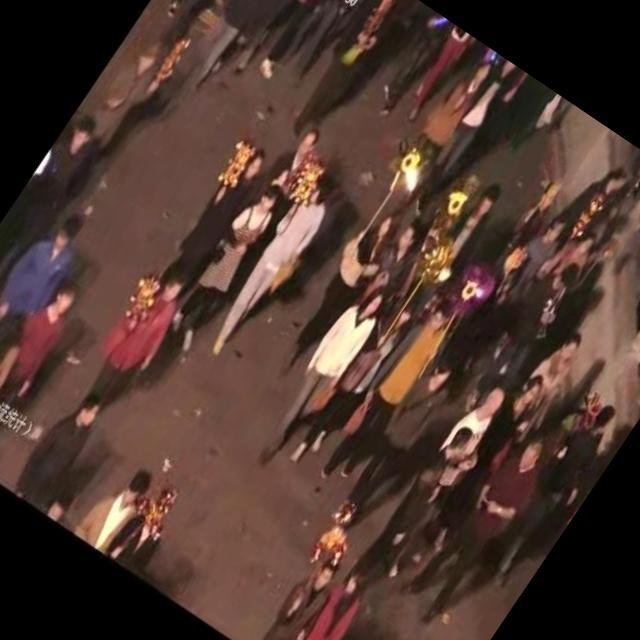person: (392, 415, 568, 637), (194, 159, 356, 371), (240, 271, 402, 481), (308, 292, 467, 498), (478, 395, 634, 601), (324, 344, 472, 538), (411, 368, 554, 558), (153, 172, 297, 360), (270, 197, 411, 386), (0, 106, 116, 301), (71, 256, 205, 419), (353, 416, 482, 584), (157, 134, 280, 288), (0, 271, 94, 467), (386, 47, 502, 196), (476, 252, 590, 395), (6, 376, 121, 516), (0, 197, 102, 329), (416, 172, 516, 298), (246, 541, 356, 640), (488, 206, 579, 322), (271, 554, 387, 640), (73, 454, 164, 560), (530, 324, 594, 400), (266, 121, 329, 196), (610, 189, 640, 343), (456, 374, 517, 443)
